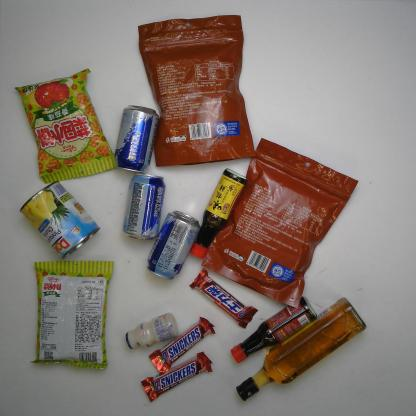Alcohol: (144, 209, 199, 285), (120, 172, 169, 242), (113, 102, 159, 175)
Canned Food: (15, 179, 101, 260)
Chocolate: (188, 267, 256, 328), (151, 316, 217, 374), (140, 353, 213, 402)
Dried Food: (200, 137, 360, 311), (138, 14, 260, 165)
Milk: (122, 311, 180, 350)
Puffed Food: (13, 66, 115, 184), (33, 258, 115, 372)
Seasoner: (236, 298, 366, 402), (182, 171, 254, 262), (230, 295, 320, 366)
